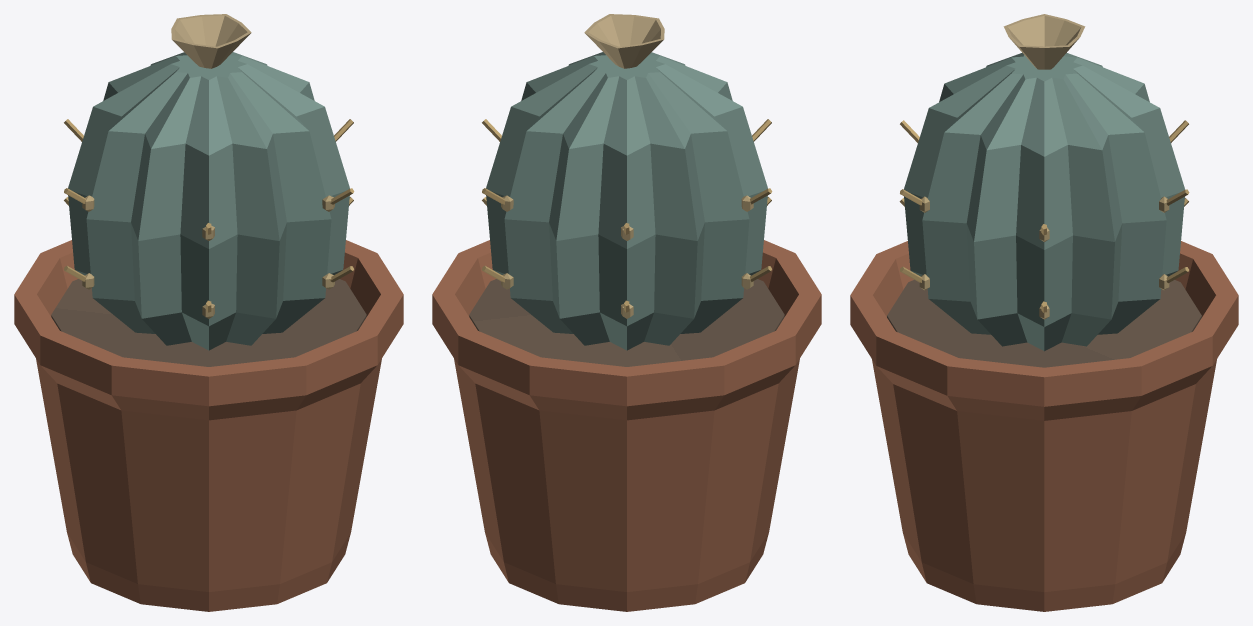
Rendered from new-magnifica.glb.
3 renders of one model, left to right at view 1: azimuth 30°, elevation 25°; view 2: azimuth 150°, elevation 25°; view 3: azimuth 270°, elevation 25°, orthographic.
Visible parts, largest first — view 1: new-magnifica/review-terra-vessel, new-magnifica/ribbed-stem-001, new-magnifica/review-rooted-soil, new-magnifica/hollow-corolla-026; view 2: new-magnifica/review-terra-vessel, new-magnifica/ribbed-stem-001, new-magnifica/review-rooted-soil, new-magnifica/hollow-corolla-026; view 3: new-magnifica/review-terra-vessel, new-magnifica/ribbed-stem-001, new-magnifica/review-rooted-soil, new-magnifica/hollow-corolla-026.
Part boxes in pixels (x1,y1,x2,y2): new-magnifica/review-terra-vessel: (14,240,403,611); new-magnifica/ribbed-stem-001: (68,52,349,350); new-magnifica/review-rooted-soil: (51,279,366,366); new-magnifica/hollow-corolla-026: (171,14,251,68); new-magnifica/review-terra-vessel: (432,240,821,611); new-magnifica/ribbed-stem-001: (486,52,767,350); new-magnifica/review-rooted-soil: (469,279,784,366); new-magnifica/hollow-corolla-026: (584,14,664,68); new-magnifica/review-terra-vessel: (850,241,1238,611); new-magnifica/ribbed-stem-001: (904,53,1184,351); new-magnifica/review-rooted-soil: (887,279,1201,367); new-magnifica/hollow-corolla-026: (1003,14,1085,69).
Size of the model in its own units: 0.19 by 0.282 by 0.19.
7 materials, 7 textured.
